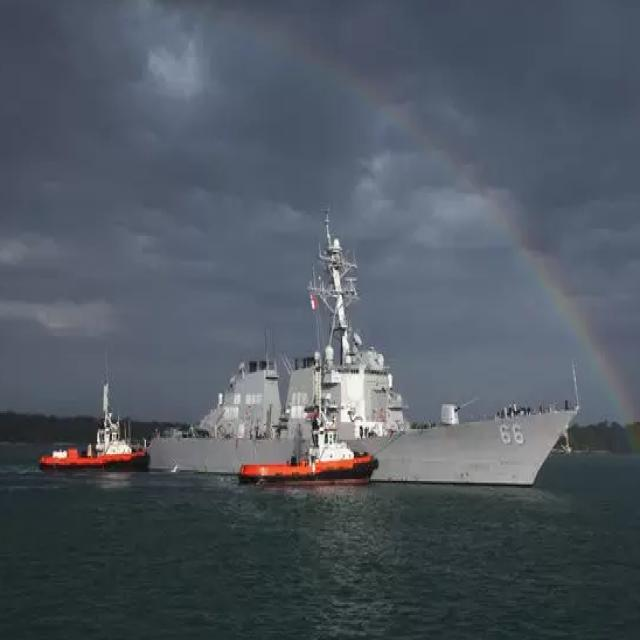navalvessels: (147, 216, 578, 482), (238, 415, 376, 492), (47, 382, 142, 474)
